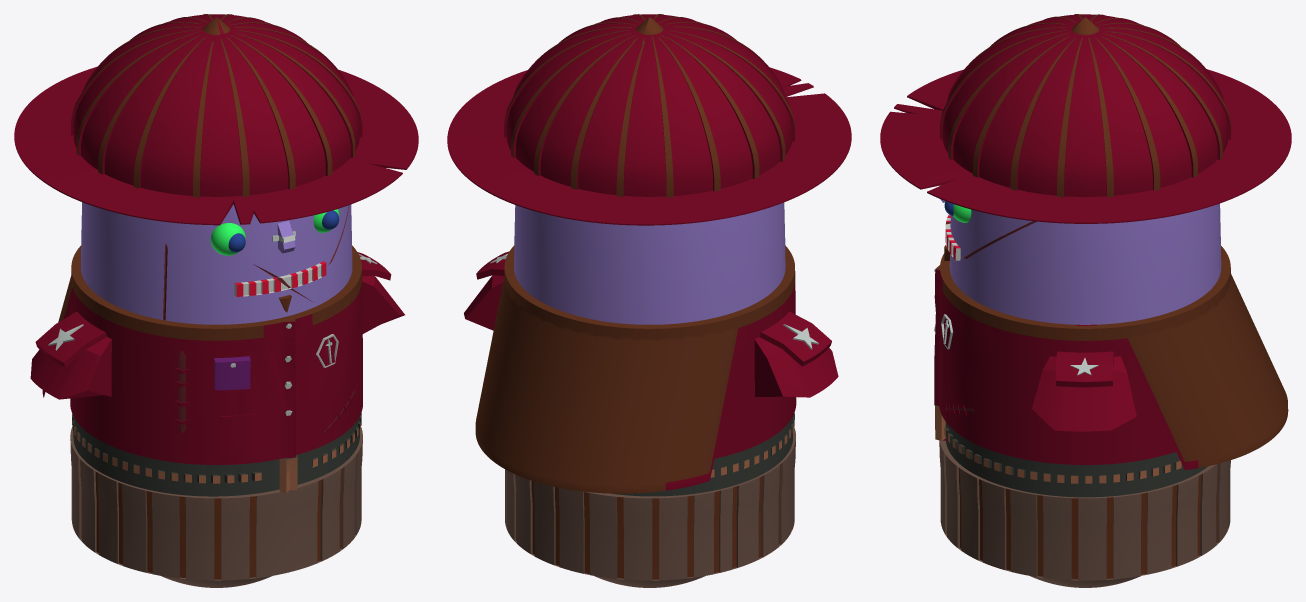
The model's file is PiyerBrother.fbx.
The picture shows the model from 3 angles, left to right: view 1: azimuth 30°, elevation 25°; view 2: azimuth 150°, elevation 25°; view 3: azimuth 270°, elevation 25°; orthographic projection.
Visible parts, largest first — view 1: Sphere, Sphere.001; view 2: Sphere; view 3: Sphere.
Part boxes in pixels (left/top/right/bottom): Sphere: left=14, top=14, right=418, bottom=587; Sphere.001: left=210, top=223, right=245, bottom=255; Sphere: left=447, top=14, right=851, bottom=587; Sphere: left=880, top=14, right=1291, bottom=587.
Size of the model in its own units: 267 by 406 by 271.
